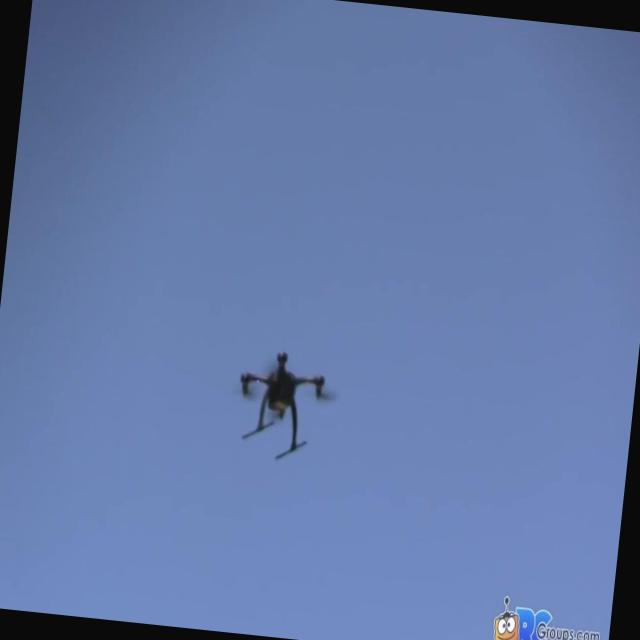drone: (230, 344, 330, 466)
